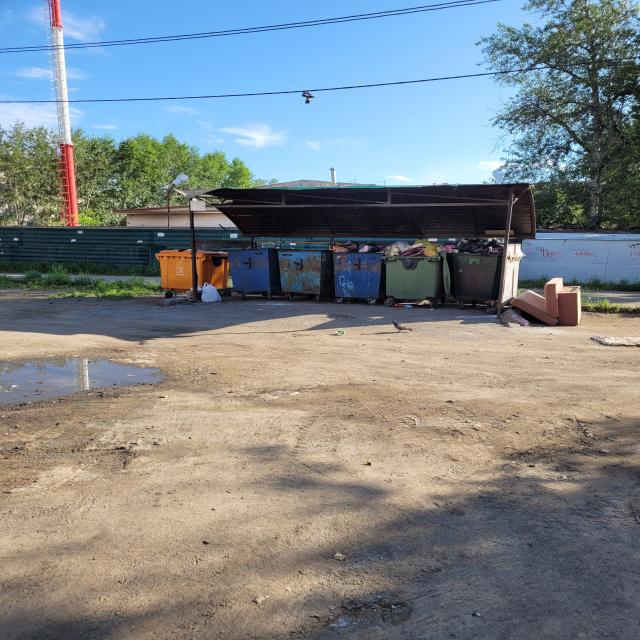bin: (154, 248, 226, 291), (278, 250, 332, 300), (332, 254, 384, 305), (445, 256, 500, 302), (384, 256, 438, 300), (228, 251, 278, 294)
trash: (511, 274, 586, 328), (331, 235, 504, 254), (197, 283, 227, 305), (394, 300, 430, 312), (480, 297, 500, 313), (332, 328, 350, 338)
